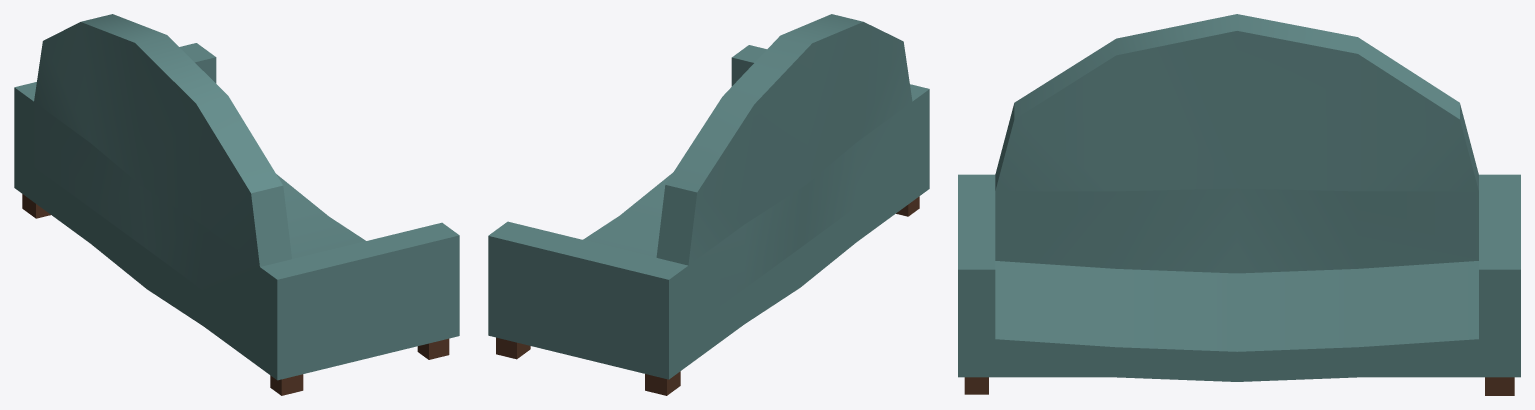
The model's file is bank.fbx.
3 renders of one model, left to right at view 1: azimuth 30°, elevation 25°; view 2: azimuth 150°, elevation 25°; view 3: azimuth 270°, elevation 25°, orthographic. The views are drawn at different scales.
Parts seen in each view (by area): view 1: bank; view 2: bank; view 3: bank.
Part boxes in pixels (x1=…): bank: x1=14, y1=14, x2=459, y2=395; bank: x1=488, y1=14, x2=929, y2=395; bank: x1=958, y1=14, x2=1520, y2=395.
Size of the model in its own units: 0.8521 by 1.11 by 2.
